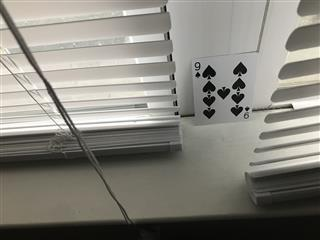NineOfSpades: (191, 50, 259, 126)
